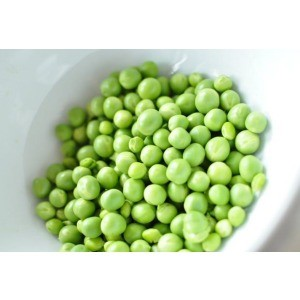green pea_brain food: (79, 112, 239, 220)
